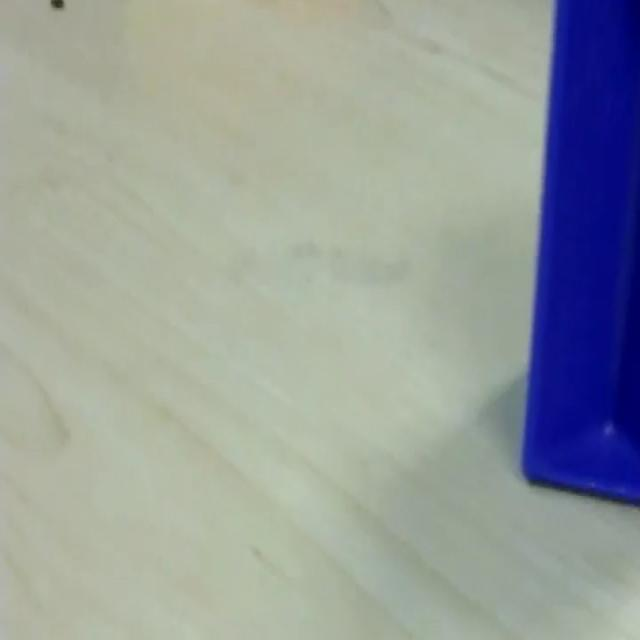blue_block: (519, 0, 638, 505)
